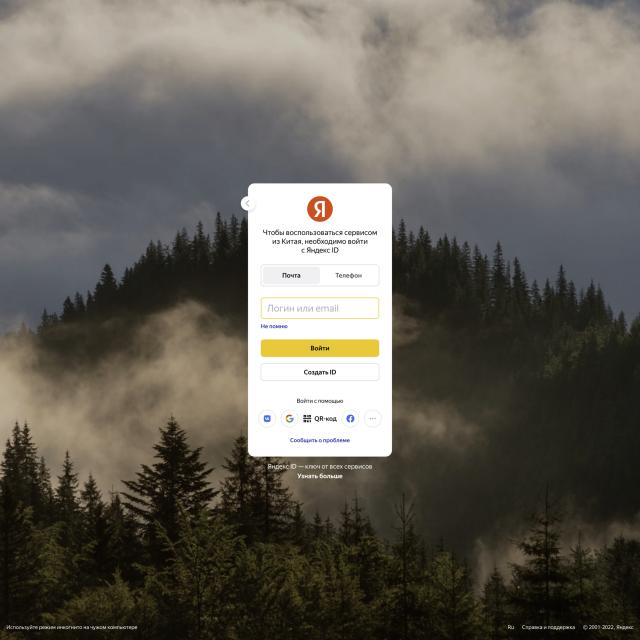footer: (2, 605, 639, 640)
input: (261, 297, 379, 319)
logo: (306, 194, 334, 223)
navigation: (239, 196, 257, 213)
